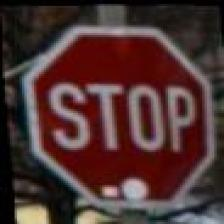Stop: (15, 17, 219, 210)
